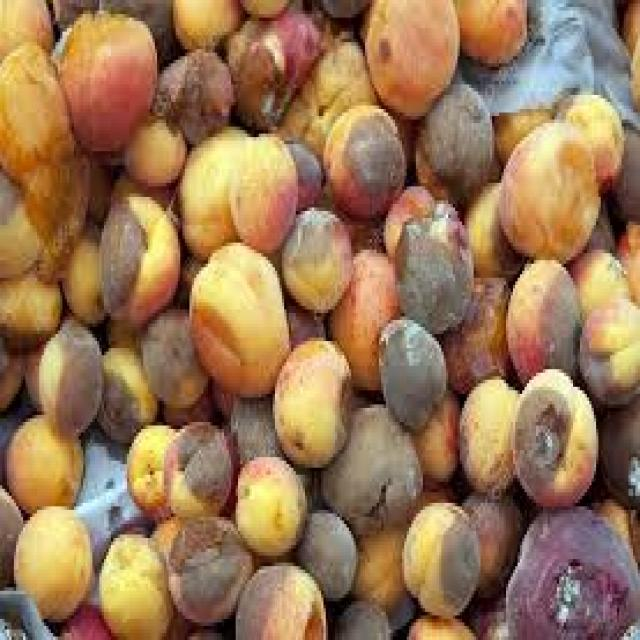organic waste: (503, 503, 638, 636), (187, 239, 287, 394), (496, 116, 600, 260), (53, 3, 155, 148), (319, 398, 420, 528), (508, 359, 596, 503), (220, 14, 328, 130), (275, 31, 377, 148), (358, 0, 458, 113), (270, 334, 352, 468), (97, 190, 180, 320), (391, 197, 472, 327), (18, 127, 92, 267), (228, 394, 316, 510), (502, 253, 578, 387), (176, 116, 247, 257), (328, 242, 397, 386), (164, 514, 252, 622), (0, 39, 67, 179), (414, 84, 492, 204), (12, 503, 90, 622), (324, 102, 404, 218), (402, 496, 476, 615), (94, 531, 176, 636), (2, 408, 81, 513), (226, 130, 294, 250), (351, 506, 416, 630), (37, 313, 102, 436), (453, 373, 515, 499), (444, 274, 513, 387), (150, 46, 234, 137), (376, 313, 444, 425), (282, 204, 353, 309), (233, 559, 326, 637), (550, 88, 626, 183), (231, 454, 303, 552), (162, 415, 231, 517), (141, 299, 210, 401), (458, 485, 522, 591), (578, 296, 638, 404), (462, 179, 520, 278), (296, 503, 354, 601), (95, 345, 157, 436), (51, 225, 104, 327), (409, 384, 460, 486), (95, 0, 178, 60), (124, 418, 176, 510), (123, 106, 187, 180), (452, 0, 524, 63), (596, 394, 638, 499), (0, 264, 58, 338), (562, 246, 626, 313), (106, 158, 174, 215), (0, 179, 37, 278), (589, 485, 638, 559), (381, 183, 432, 250), (169, 0, 238, 46), (0, 0, 48, 63), (284, 137, 321, 208), (330, 594, 390, 636), (78, 151, 111, 225), (464, 584, 508, 636), (614, 214, 638, 306), (0, 482, 21, 584), (404, 478, 450, 524), (282, 299, 323, 348), (157, 390, 215, 422), (404, 608, 469, 636), (0, 338, 23, 412), (51, 0, 97, 32), (305, 0, 363, 21), (23, 344, 44, 401), (102, 313, 132, 348), (238, 0, 296, 18), (168, 619, 220, 636), (622, 0, 638, 53), (626, 35, 638, 102)
